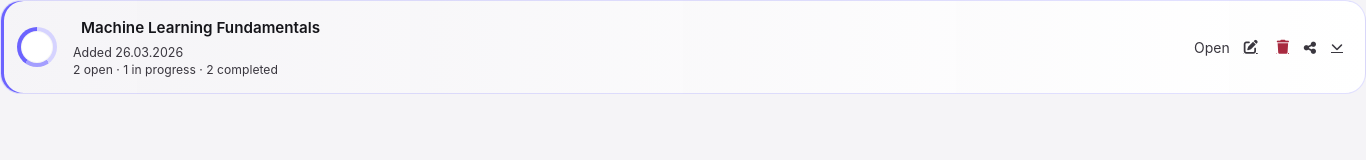
Scenario: CourseCard › collapses when the toggle button is clicked again
Step 1. Click the button named "toggle course" → (1337, 47), box [1325,35,1349,59]
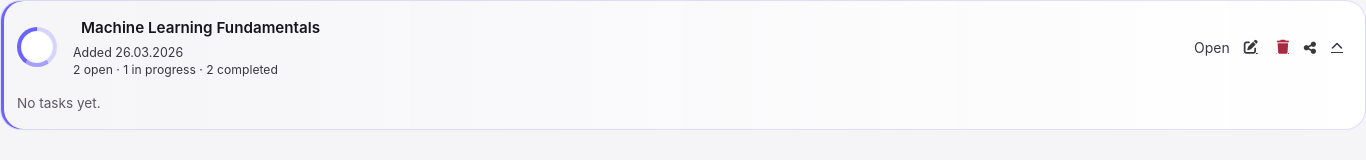
Expected: the text "No tasks yet." is shown, [17,95,101,111]
Step 2. Click the button named "toggle course" → (1337, 47), box [1325,35,1349,59]
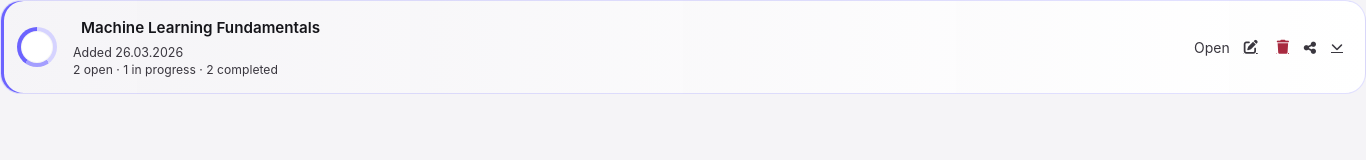
Expected: the text "No tasks yet" is gone
